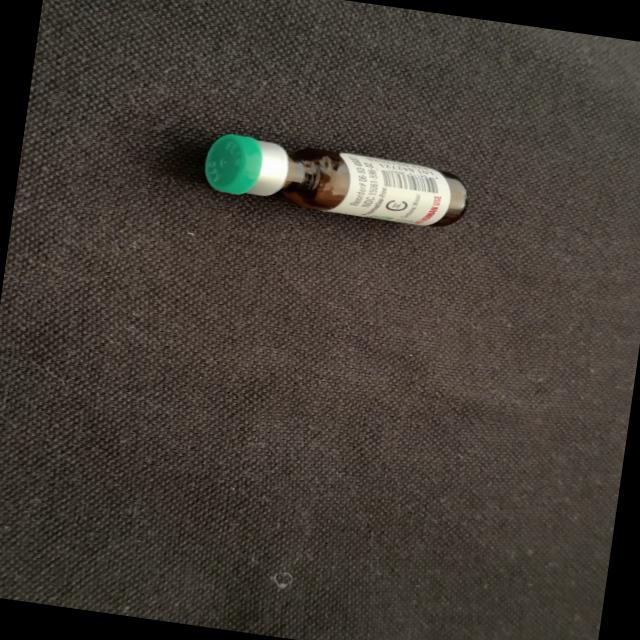midazolm: (203, 132, 468, 232)
